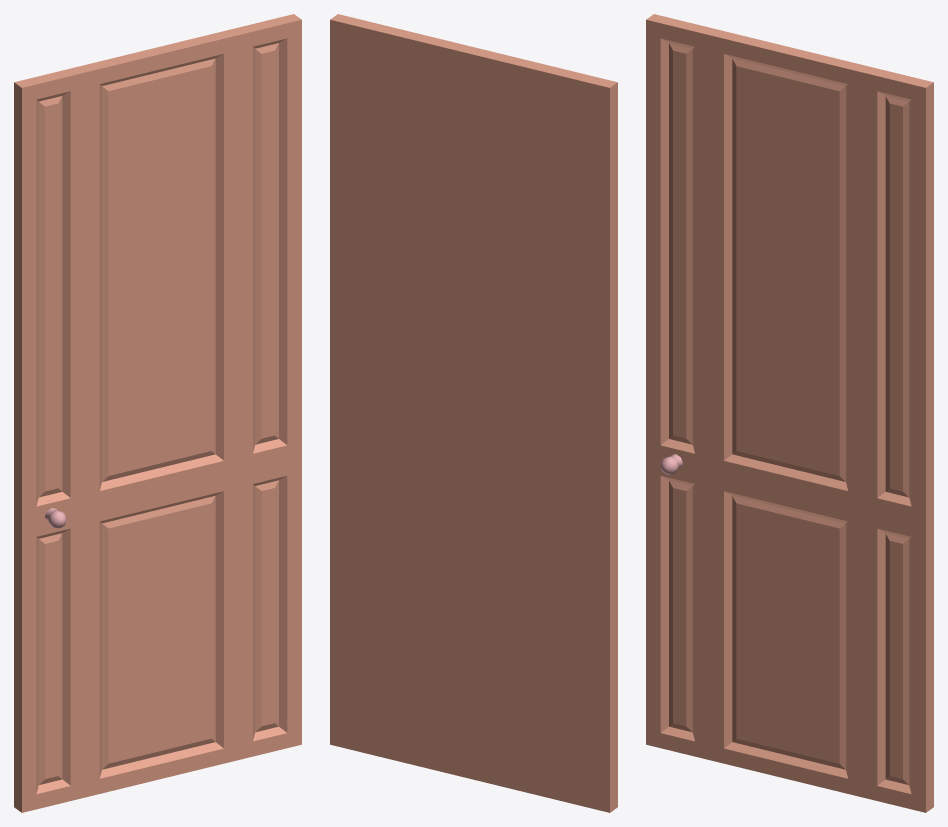
The model's file is SP_House06_Door01.fbx.
The picture shows the model from 3 angles, left to right: view 1: azimuth 30°, elevation 25°; view 2: azimuth 150°, elevation 25°; view 3: azimuth 330°, elevation 25°; orthographic projection.
Visible parts, largest first — view 1: SP_House06_Door01; view 2: SP_House06_Door01; view 3: SP_House06_Door01.
Boxes of the visible parts, bbox=[...] form: SP_House06_Door01: bbox=[14, 14, 301, 812]; SP_House06_Door01: bbox=[330, 14, 617, 812]; SP_House06_Door01: bbox=[646, 14, 933, 812].
Size of the model in its own units: 0.9096 by 2.25 by 0.1044.
